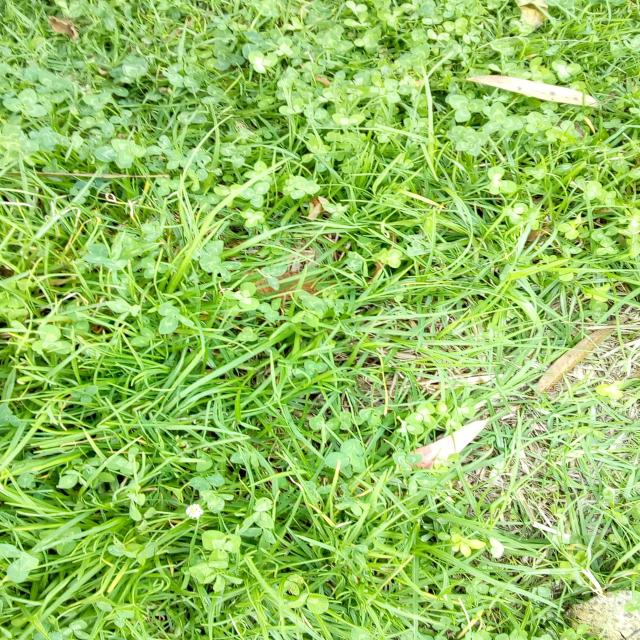Four Leaf Clover: (453, 129, 489, 157)
